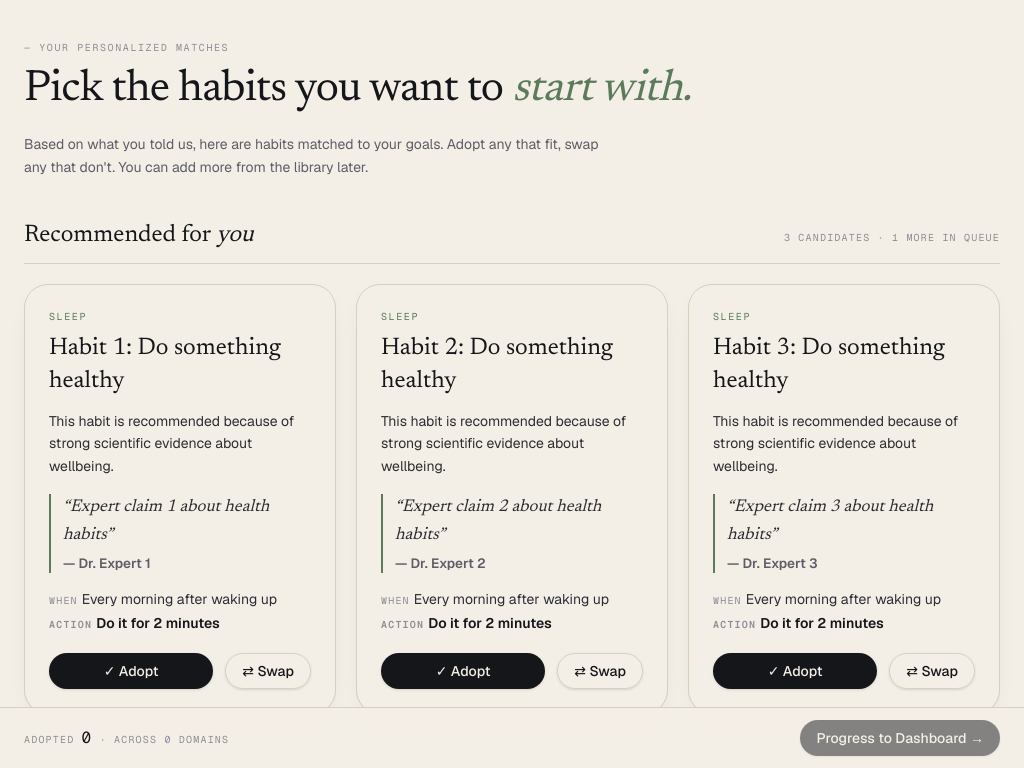
Test: AdoptBoard › Adopt moves the habit into the starting set and pulls the next from the queue
Click the button with aria-label "Adopt Habit 1". click: click(131, 671)
box: [49,653,213,689]
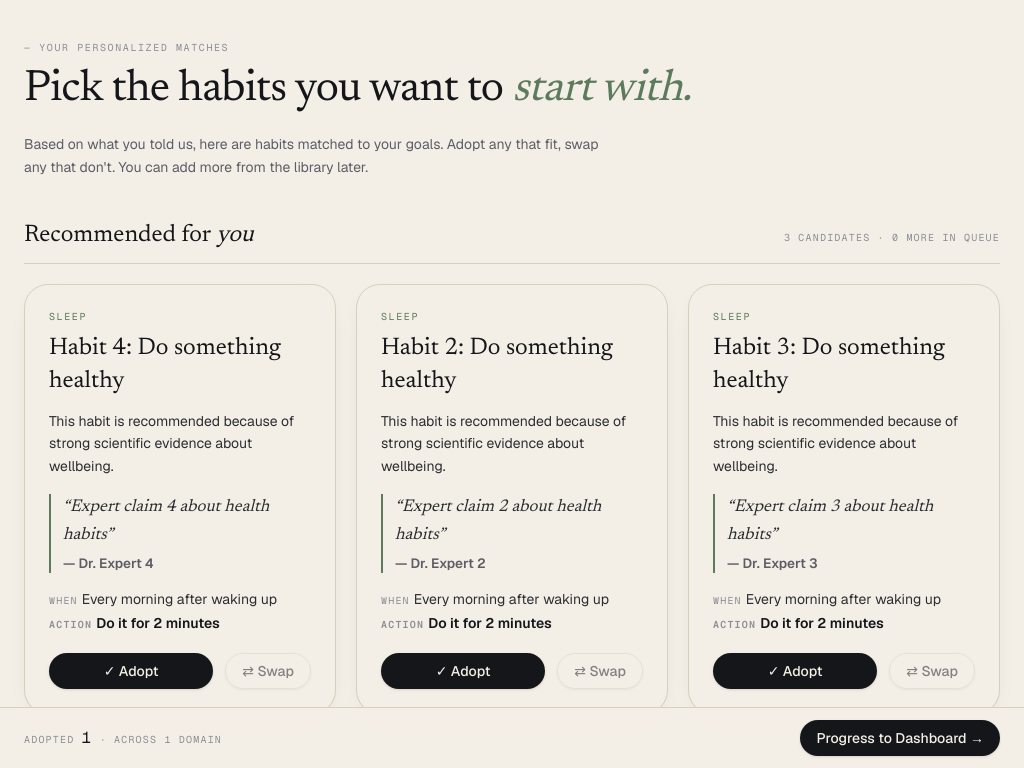
Check: the heading "Habit 4: Do something healthy" is shown, box [49,332,311,398]
